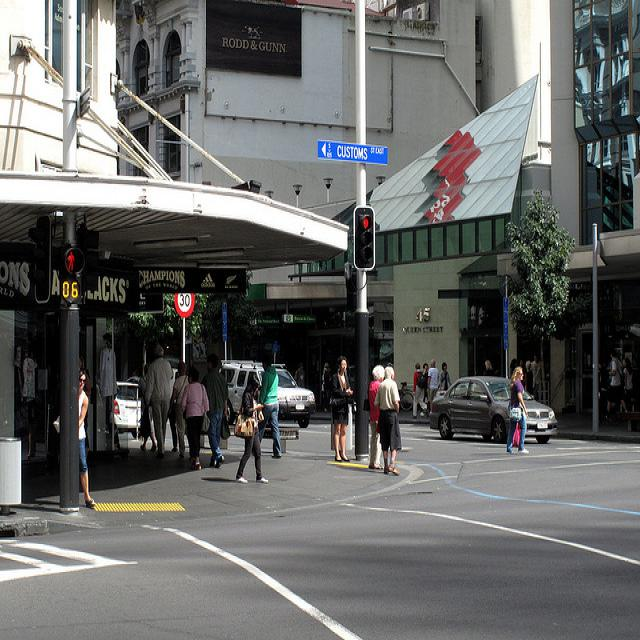Vehicle: (428, 376, 558, 444), (221, 360, 316, 428), (114, 381, 144, 439)
